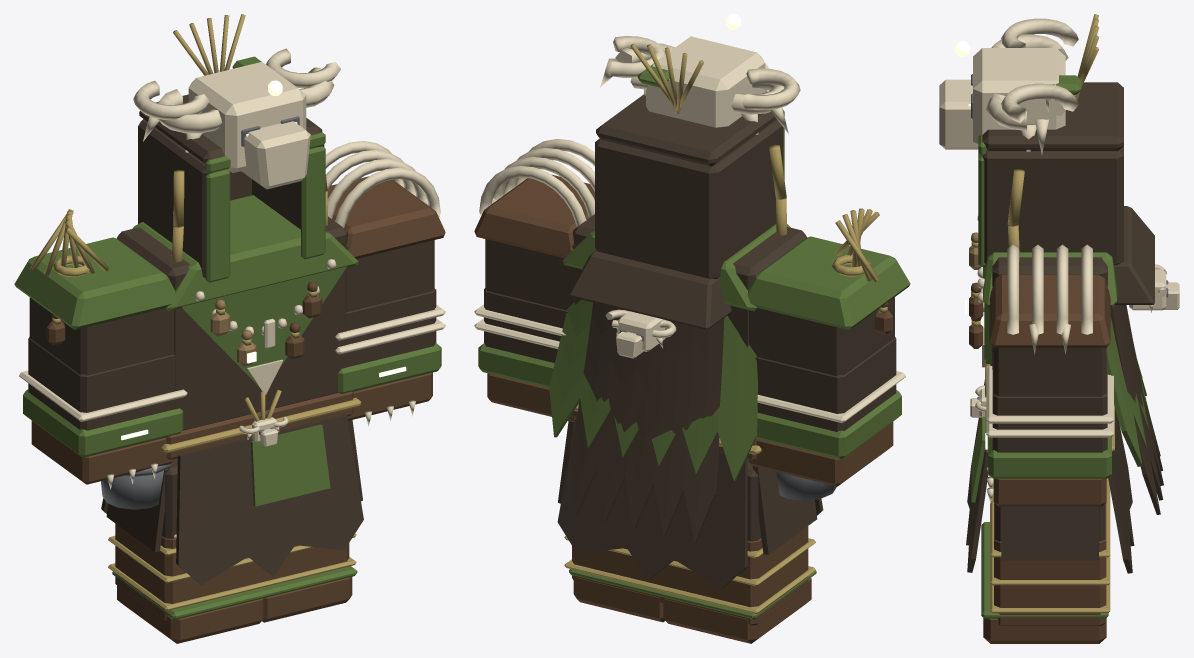
The model's file is Bogwitch.fbx.
3 views of the same model, side by side, from view 1: azimuth 30°, elevation 25°; view 2: azimuth 150°, elevation 25°; view 3: azimuth 270°, elevation 25° (orthographic).
Parts seen in each view (by area): view 1: Armor_Bogwitch_Belt_DressSway_Common, Armor_Bogwitch_Chest_Moss_Common, Armor_Bogwitch_Chest_Dress_Common, Armor_Bogwitch_Helm_Bone_Common, Armor_Bogwitch_Helm_Dress_Common, Armor_Bogwitch_PauldronR_Moss_Common, Armor_Bogwitch_BracerR_Dress_Common, Armor_Bogwitch_PauldronR_Dress_Common, Armor_Bogwitch_Helm_Moss_Common, Armor_Bogwitch_PauldronL_Leather_Common, Armor_Bogwitch_GreaveR_Leather_Common, Armor_Bogwitch_Belt_MossSway_Uncommon (+29 smaller); view 2: Armor_Bogwitch_Helm_Dress_Common, Armor_Bogwitch_Chest_DressSway_Rare, Armor_Bogwitch_Belt_DressSway_Common, Armor_Bogwitch_Chest_MossSway_Common, Armor_Bogwitch_PauldronR_Moss_Common, Armor_Bogwitch_Helm_Bone_Common, Armor_Bogwitch_BracerR_Dress_Common, Armor_Bogwitch_PauldronR_Dress_Common, Armor_Bogwitch_PauldronL_Leather_Common, Armor_Bogwitch_GreaveR_Leather_Common, Armor_Bogwitch_PauldronL_Dress_Common, Armor_Bogwitch_BracerR_Moss_Common (+25 smaller); view 3: Armor_Bogwitch_Helm_Dress_Common, Armor_Bogwitch_Helm_Bone_Common, Armor_Bogwitch_Belt_DressSway_Common, Armor_Bogwitch_GreaveL_Leather_Common, Armor_Bogwitch_PauldronL_Leather_Common, Armor_Bogwitch_PauldronL_Dress_Common, Armor_Bogwitch_BracerL_Dress_Common, Armor_Bogwitch_BracerL_Moss_Common, Armor_Bogwitch_Chest_DressSway_Rare, Armor_Bogwitch_Helm_Bone_Legendary, Armor_Bogwitch_GloveL_Leather_Common, Armor_Bogwitch_GreaveL_Reed_Uncommon (+19 smaller).
Boxes of the visible parts, bbox=[...] form: Armor_Bogwitch_Belt_DressSway_Common: bbox=[101, 414, 363, 584]; Armor_Bogwitch_Chest_Moss_Common: bbox=[133, 195, 358, 386]; Armor_Bogwitch_Chest_Dress_Common: bbox=[116, 216, 347, 430]; Armor_Bogwitch_Helm_Bone_Common: bbox=[157, 62, 334, 189]; Armor_Bogwitch_Helm_Dress_Common: bbox=[133, 94, 324, 277]; Armor_Bogwitch_PauldronR_Moss_Common: bbox=[14, 237, 175, 329]; Armor_Bogwitch_BracerR_Dress_Common: bbox=[28, 337, 175, 430]; Armor_Bogwitch_PauldronR_Dress_Common: bbox=[29, 297, 173, 375]; Armor_Bogwitch_Helm_Moss_Common: bbox=[205, 132, 325, 282]; Armor_Bogwitch_PauldronL_Leather_Common: bbox=[327, 176, 445, 258]; Armor_Bogwitch_GreaveR_Leather_Common: bbox=[115, 523, 259, 620]; Armor_Bogwitch_Belt_MossSway_Uncommon: bbox=[250, 424, 330, 506]; Armor_Bogwitch_Helm_Dress_Common: bbox=[569, 94, 783, 329]; Armor_Bogwitch_Chest_DressSway_Rare: bbox=[570, 302, 724, 543]; Armor_Bogwitch_Belt_DressSway_Common: bbox=[557, 417, 823, 588]; Armor_Bogwitch_Chest_MossSway_Common: bbox=[549, 299, 757, 481]; Armor_Bogwitch_PauldronR_Moss_Common: bbox=[747, 236, 910, 330]; Armor_Bogwitch_Helm_Bone_Common: bbox=[615, 36, 784, 134]; Armor_Bogwitch_BracerR_Dress_Common: bbox=[755, 337, 896, 431]; Armor_Bogwitch_PauldronR_Dress_Common: bbox=[749, 297, 894, 376]; Armor_Bogwitch_PauldronL_Leather_Common: bbox=[474, 174, 594, 258]; Armor_Bogwitch_GreaveR_Leather_Common: bbox=[662, 526, 808, 625]; Armor_Bogwitch_PauldronL_Dress_Common: bbox=[485, 239, 574, 310]; Armor_Bogwitch_BracerR_Moss_Common: bbox=[756, 390, 901, 459]; Armor_Bogwitch_Helm_Dress_Common: bbox=[982, 82, 1154, 304]; Armor_Bogwitch_Helm_Bone_Common: bbox=[939, 34, 1068, 151]; Armor_Bogwitch_Belt_DressSway_Common: bbox=[966, 380, 1134, 573]; Armor_Bogwitch_GreaveL_Leather_Common: bbox=[994, 503, 1106, 625]; Armor_Bogwitch_PauldronL_Leather_Common: bbox=[989, 274, 1110, 347]; Armor_Bogwitch_PauldronL_Dress_Common: bbox=[993, 348, 1106, 396]; Armor_Bogwitch_BracerL_Dress_Common: bbox=[992, 352, 1107, 479]; Armor_Bogwitch_BracerL_Moss_Common: bbox=[988, 437, 1111, 478]; Armor_Bogwitch_Chest_DressSway_Rare: bbox=[1110, 305, 1163, 514]; Armor_Bogwitch_Helm_Bone_Legendary: bbox=[1001, 18, 1078, 154]; Armor_Bogwitch_GloveL_Leather_Common: bbox=[993, 479, 1106, 506]; Armor_Bogwitch_GreaveL_Reed_Uncommon: bbox=[990, 503, 1110, 613].
Bounding box in the file's own units: 450 × 619 × 234.
